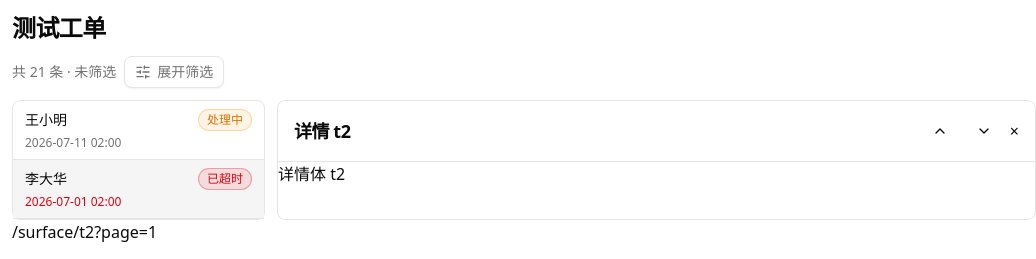
Test: 跨页翻单 › 末行 → 越界翻到下一页第一条；页 2 上一条按钮越界翻回
Expected: the element named "工单详情" shows "详情 t2", [294,119,350,143]
Press ArrowRight in the element named "工单详情", box [278,101,1035,219]
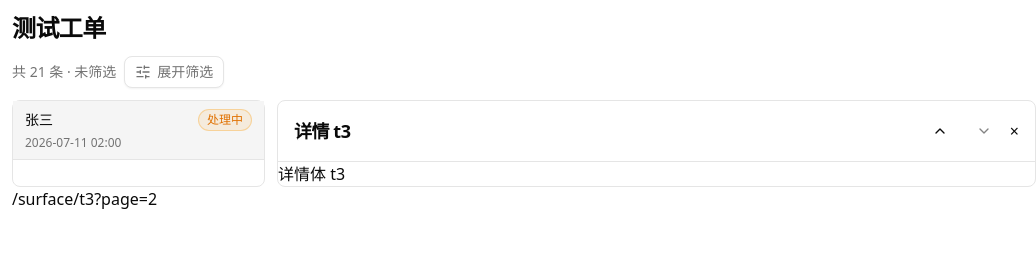
Expected: the button named "下一条工单" is disabled, [966,113,1002,149]
Expected: the element named "工单详情" shows "详情 t3", [294,119,350,143]
Click the button named "上一条工单" at (940, 131), box [922,113,958,149]
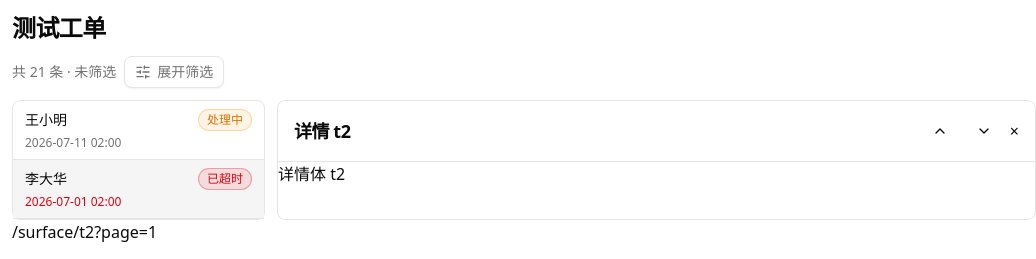
Expected: the element named "工单详情" shows "详情 t2", [294,119,350,143]
